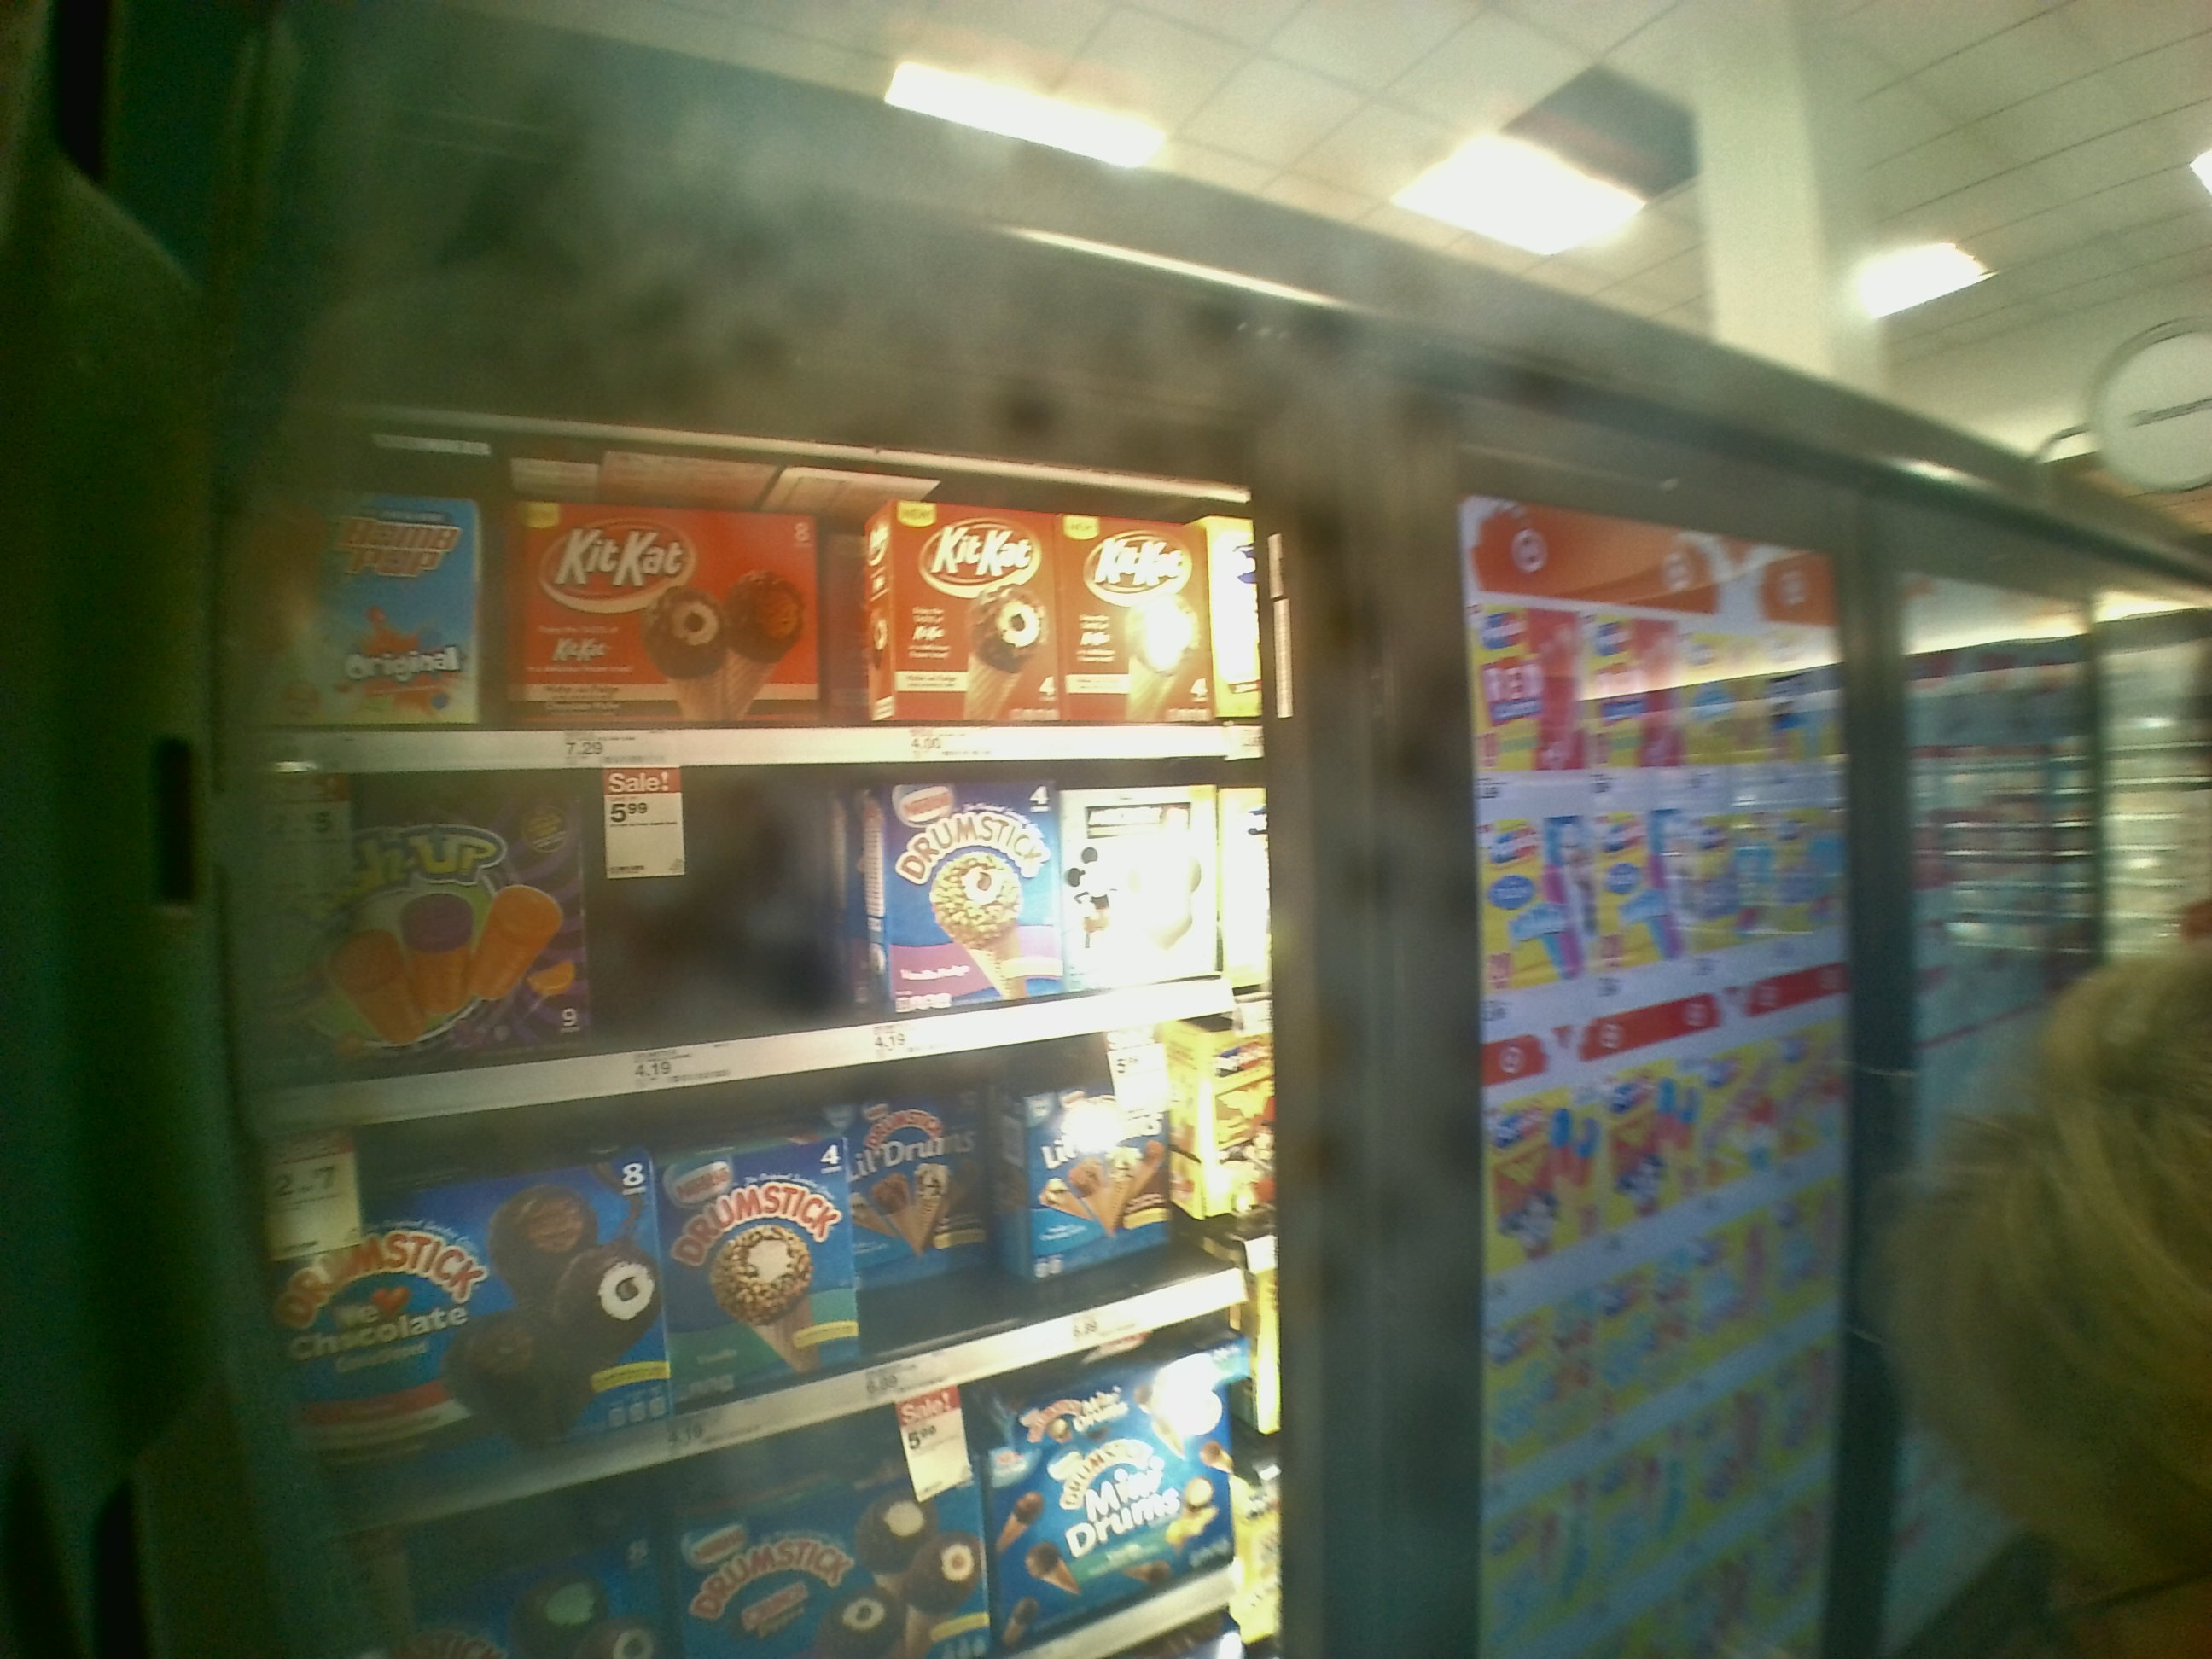shelf: (228, 1004, 1277, 1516), (228, 758, 1280, 1122), (225, 416, 1287, 772)
